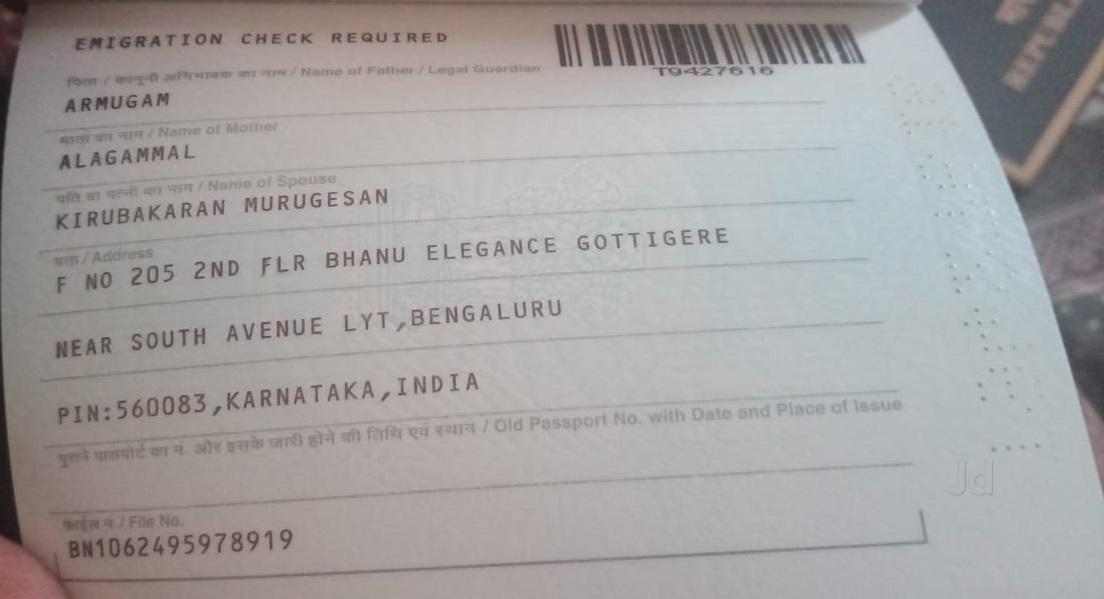File_no: (47, 520, 312, 578)
address: (40, 217, 738, 437)
father_name: (55, 84, 188, 120)
mother_name: (52, 139, 207, 179)
passport_no: (648, 55, 780, 97)
spouse_name: (44, 178, 399, 245)
